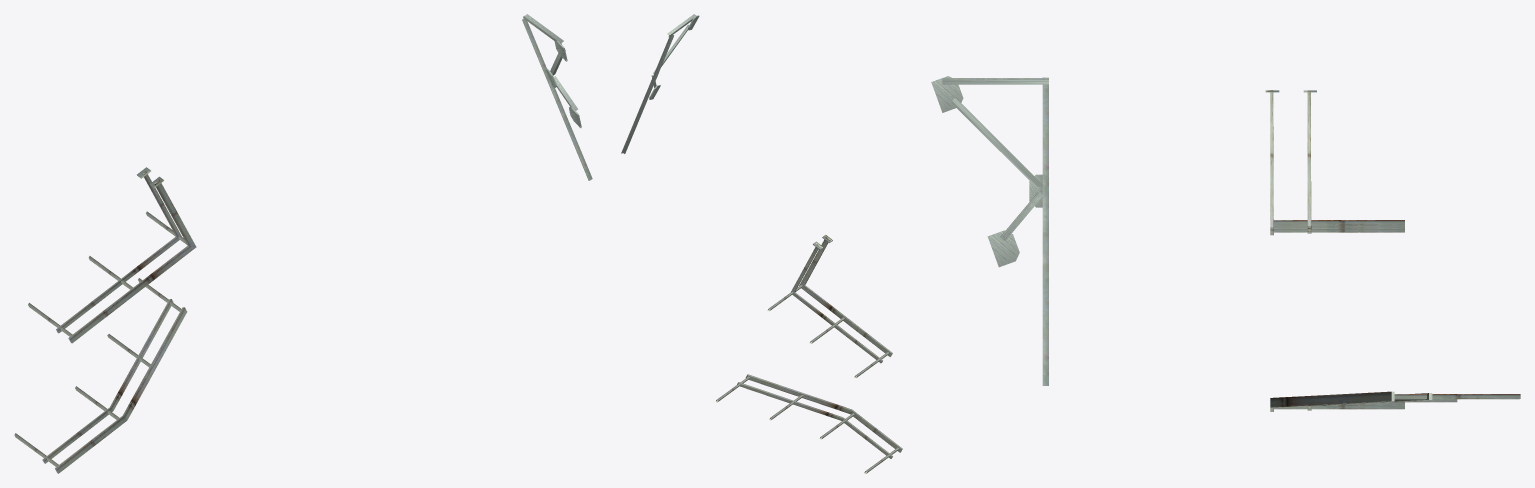
File: SC11_ind ralling.fbx
3 views of the same model, side by side, from view 1: azimuth 30°, elevation 25°; view 2: azimuth 150°, elevation 25°; view 3: azimuth 270°, elevation 25° (orthographic). The views are drawn at different scales.
Parts seen in each view (by area): view 1: sc1_11_ind_railings; view 2: sc1_11_ind_railings; view 3: sc1_11_ind_railings.
Part boxes in pixels (box(x1,y1,x2,y2)): sc1_11_ind_railings: box(14, 14, 592, 473); sc1_11_ind_railings: box(621, 14, 902, 473); sc1_11_ind_railings: box(931, 76, 1520, 411).
Bounding box in the file's own units: 725 × 633 × 549.
